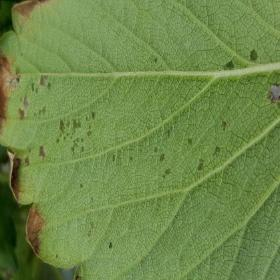Angular Leafspot: (0, 0, 279, 261)
